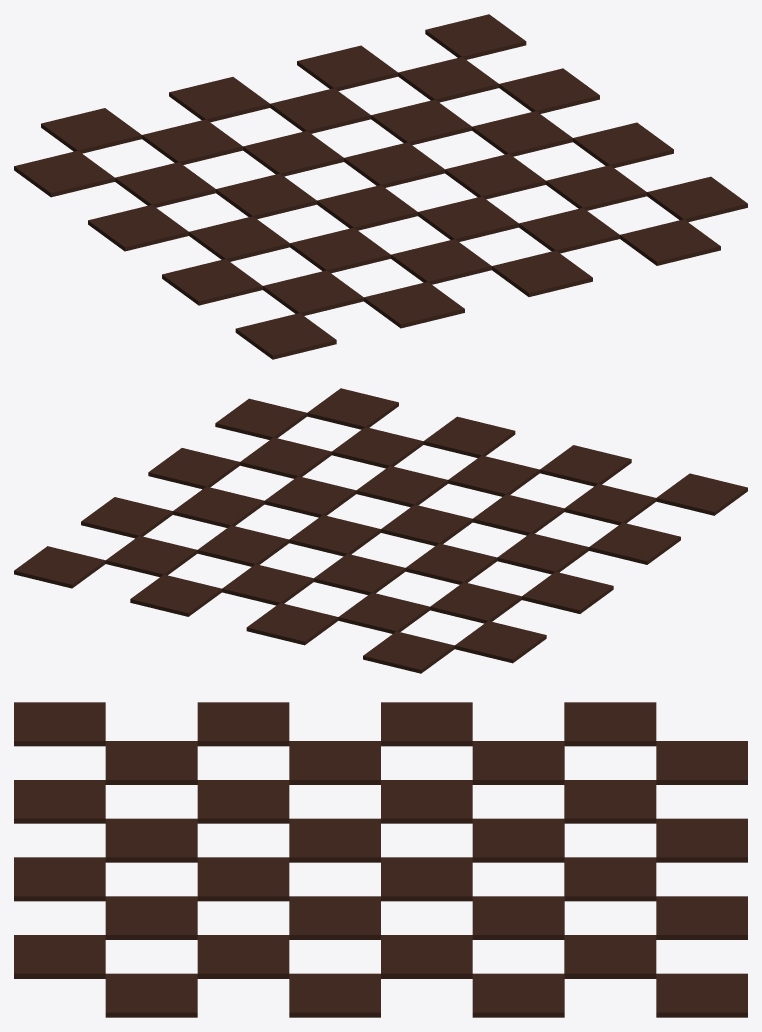
Rendered from DarkTiles.glb.
3 views of the same model, one above another, from view 1: azimuth 30°, elevation 25°; view 2: azimuth 150°, elevation 25°; view 3: azimuth 270°, elevation 25° (orthographic). The views are drawn at different scales.
Parts seen in each view (by area): view 1: DarkTiles; view 2: DarkTiles; view 3: DarkTiles.
Part boxes in pixels (<box>): DarkTiles: <box>14,14,747,359</box>; DarkTiles: <box>14,388,747,673</box>; DarkTiles: <box>14,702,747,1017</box>.
Size of the model in its own units: 13 by 0.1 by 13.
